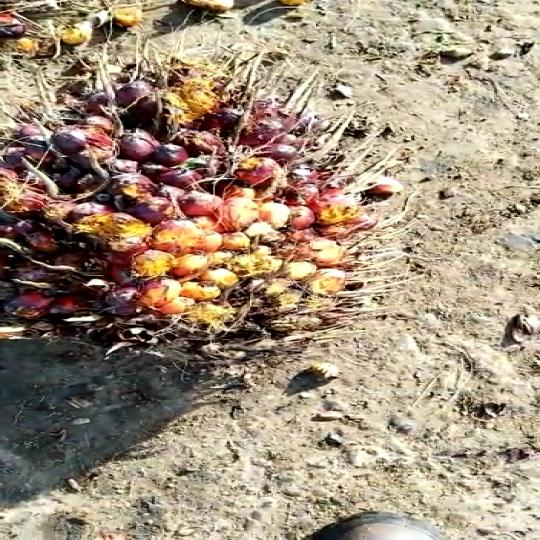masak: (0, 73, 416, 366)
